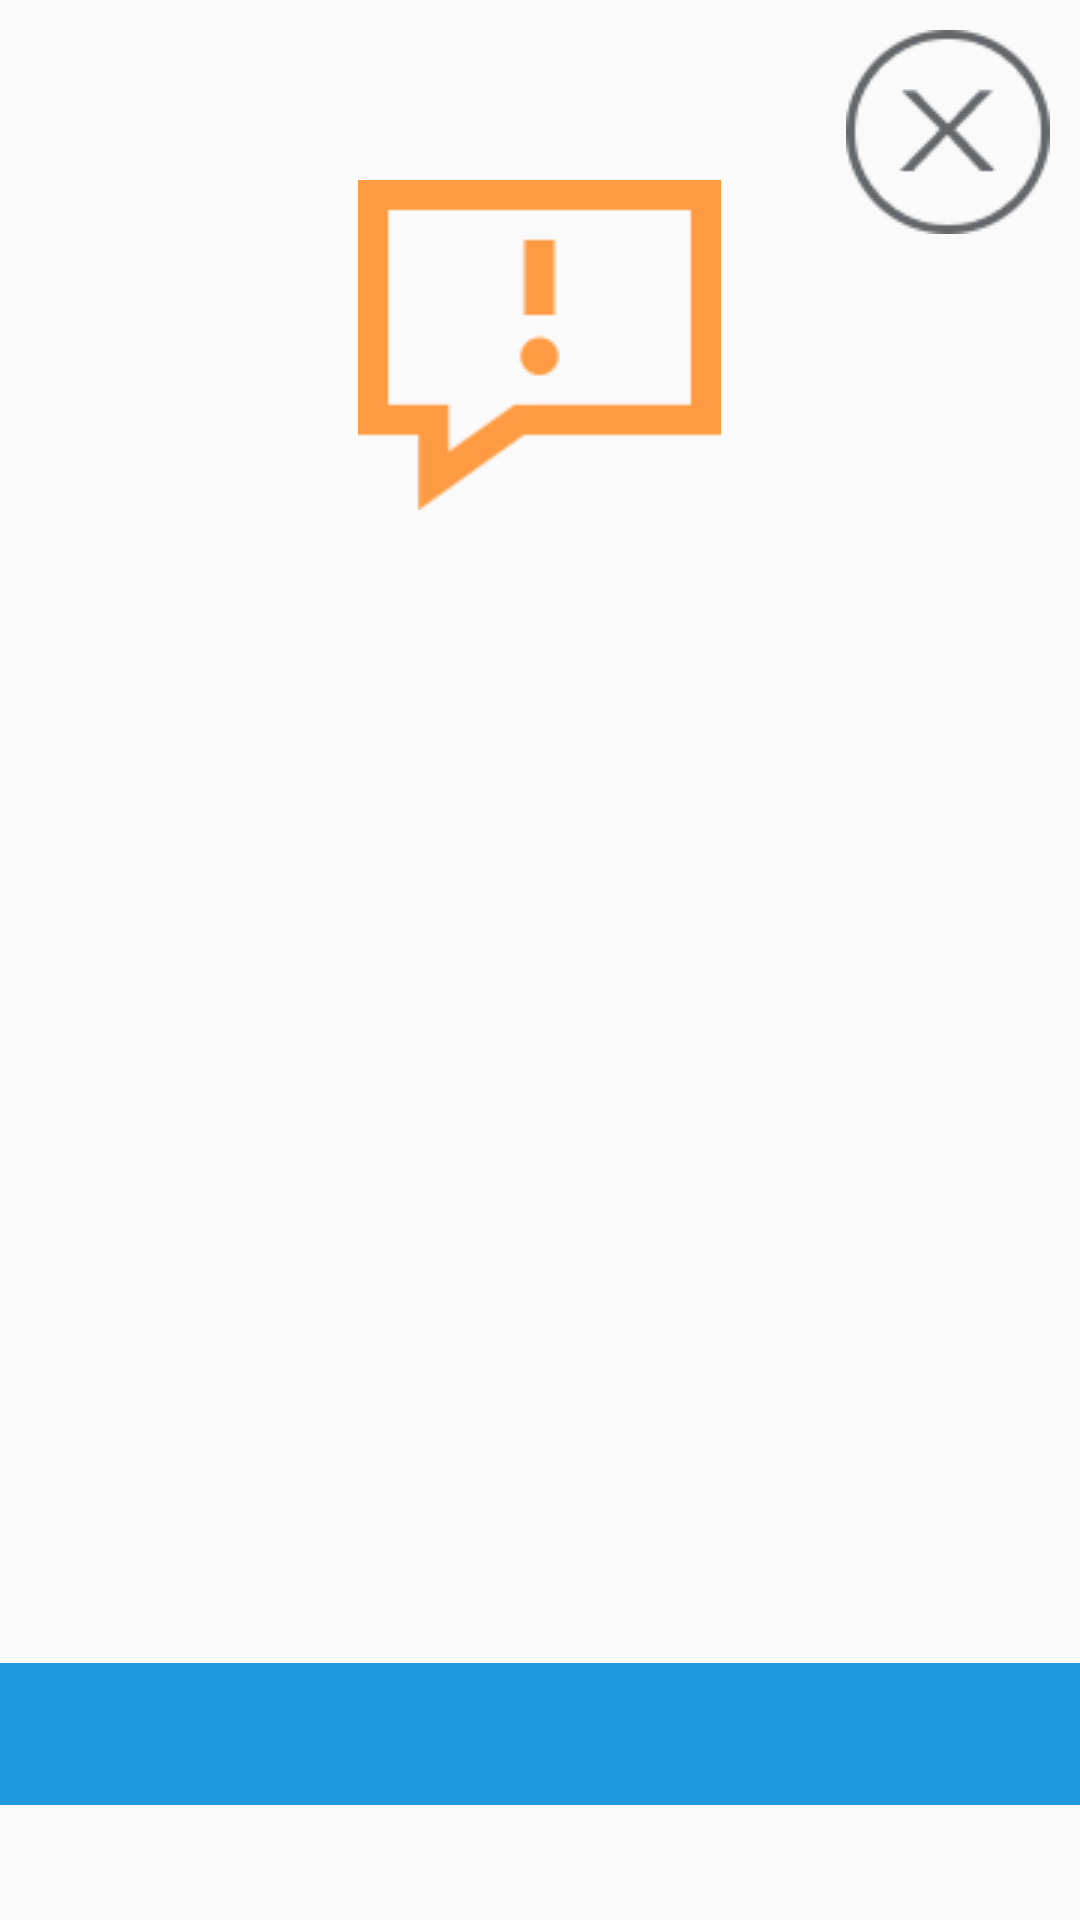

Where to tap for icons on this 1080px×1920px app screen, as (x,y):
popup close: (948,132)
